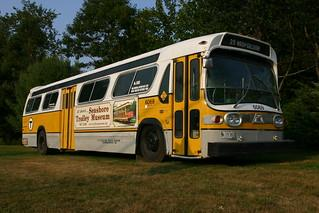bus: (14, 30, 287, 162)
